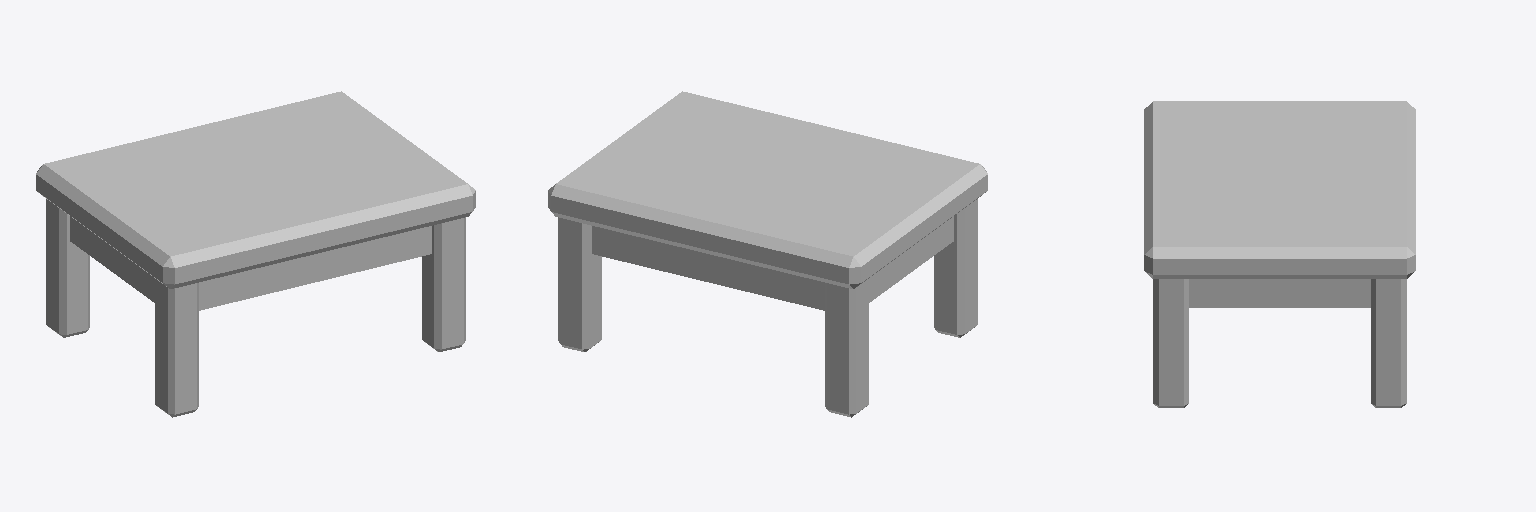
File: table_A.obj
3 renders of one model, left to right at view 1: azimuth 30°, elevation 25°; view 2: azimuth 150°, elevation 25°; view 3: azimuth 270°, elevation 25°, orthographic.
Visible parts, largest first — view 1: table_A; view 2: table_A; view 3: table_A.
Boxes of the visible parts, x1,y1,x2,y2 form: table_A: [36, 91, 475, 417]; table_A: [548, 91, 987, 417]; table_A: [1144, 101, 1415, 407].
Size of the model in its own units: 2 by 0.9999 by 1.5.